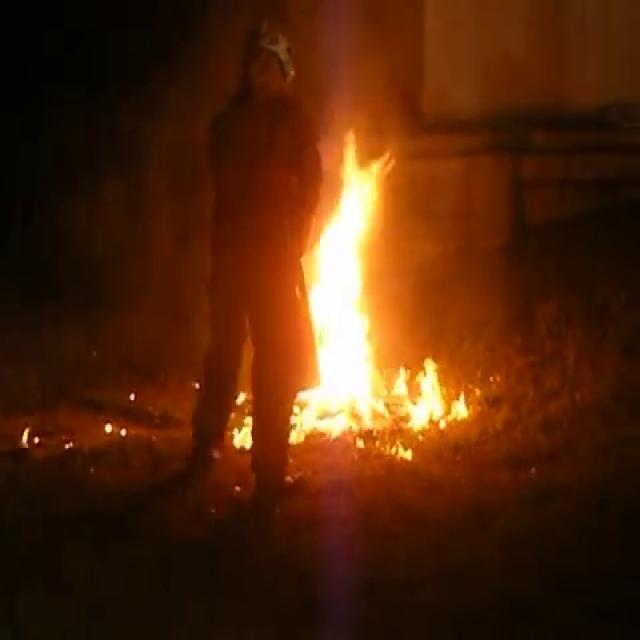Fire: (280, 113, 476, 447)
Smoke: (256, 0, 640, 139)
